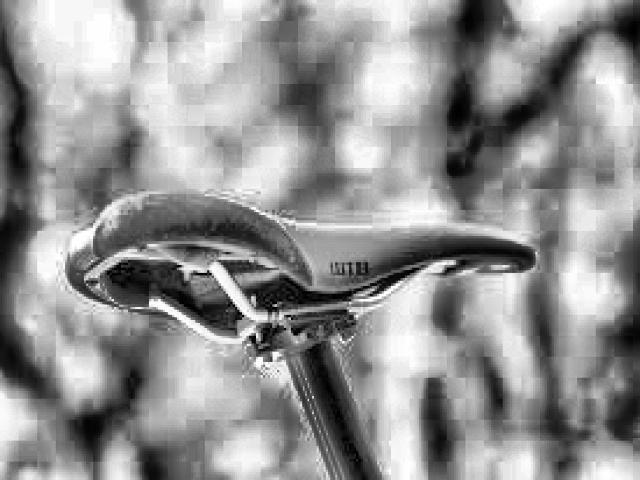saddle: (62, 184, 539, 354)
